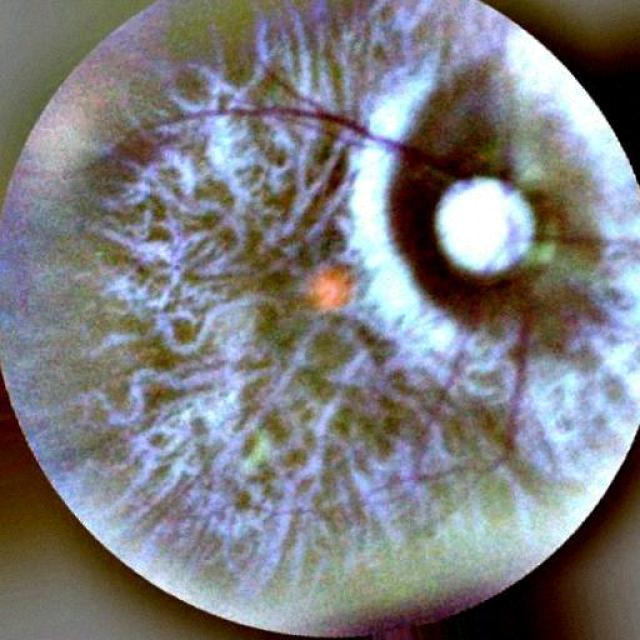Macula: (277, 231, 358, 328)
Nerves: (347, 222, 531, 505), (114, 57, 463, 181), (417, 252, 490, 456)
Optic Disk: (436, 179, 535, 275)
